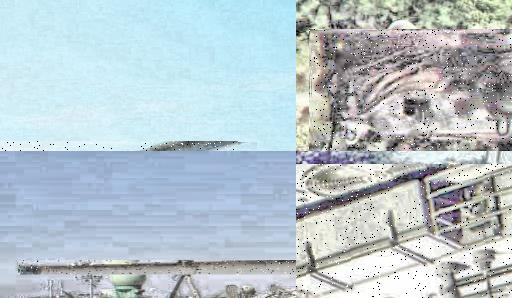tanks: (297, 166, 512, 298), (310, 31, 512, 152), (19, 261, 297, 276), (251, 291, 297, 298), (226, 288, 249, 298)
